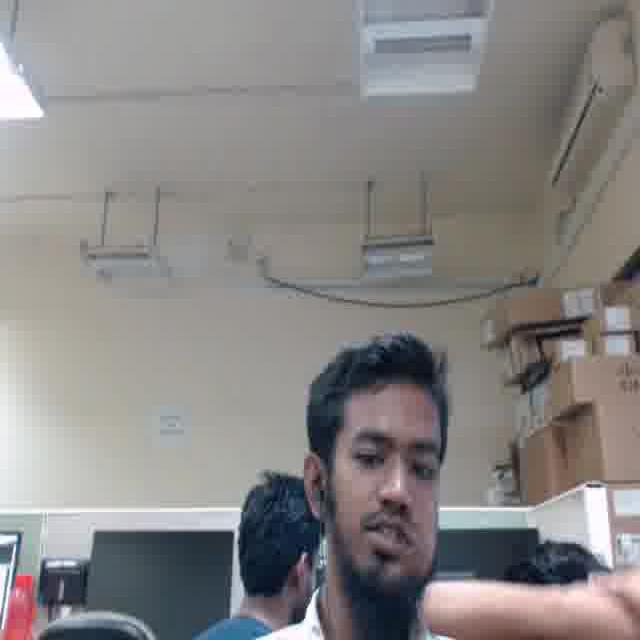Engaged: (329, 381, 444, 583)
